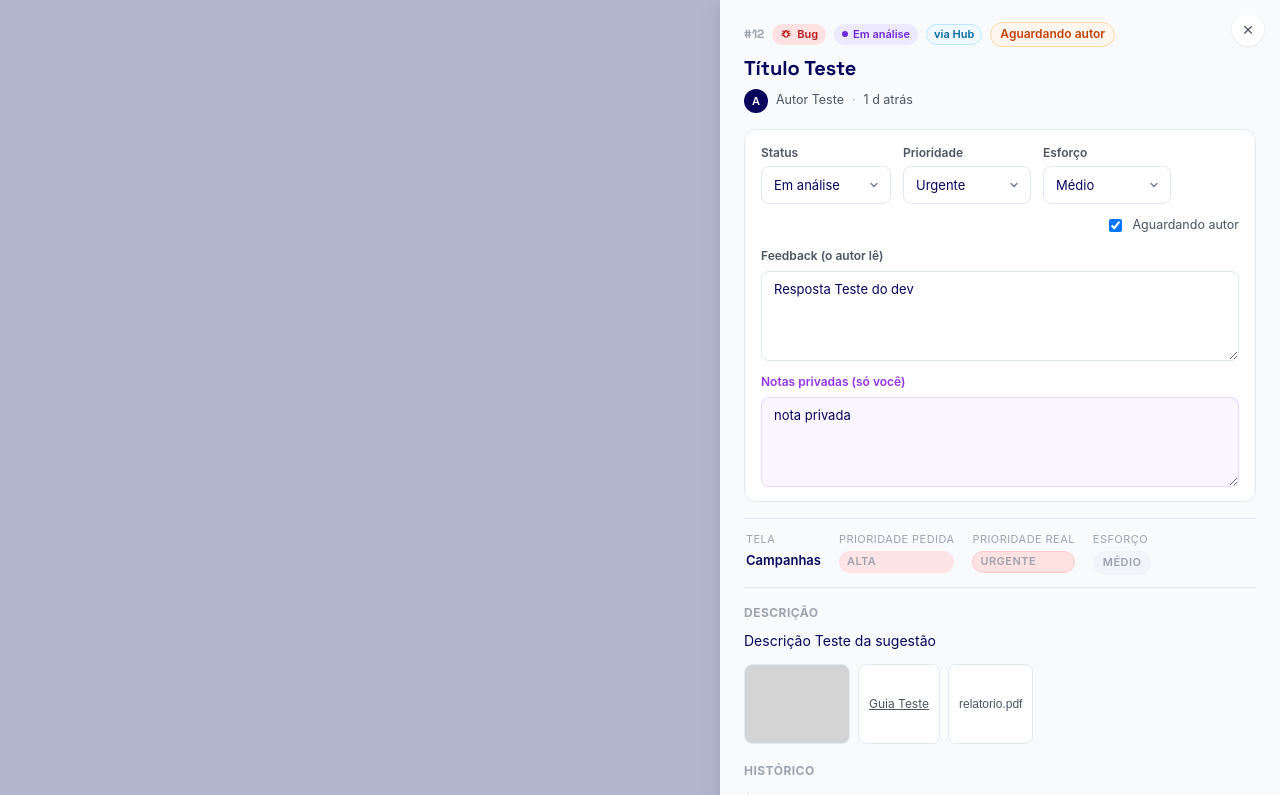
SuggestionDetail — gestão (dev) › feedback e notas: só ganham Salvar/Descartar quando editados; salvar aparta o texto e confirma
The image size is (1280, 795).
Expected: the heading "Título Teste" is shown, [744,55,856,81]
Expected: the button "Salvar" is not shown
Replace the text in the text box with placeholder "O que responder pro autor…" below "Feedback (o autor lê)" with "  Novo texto  ": [1000, 316] box [761,271,1239,361]
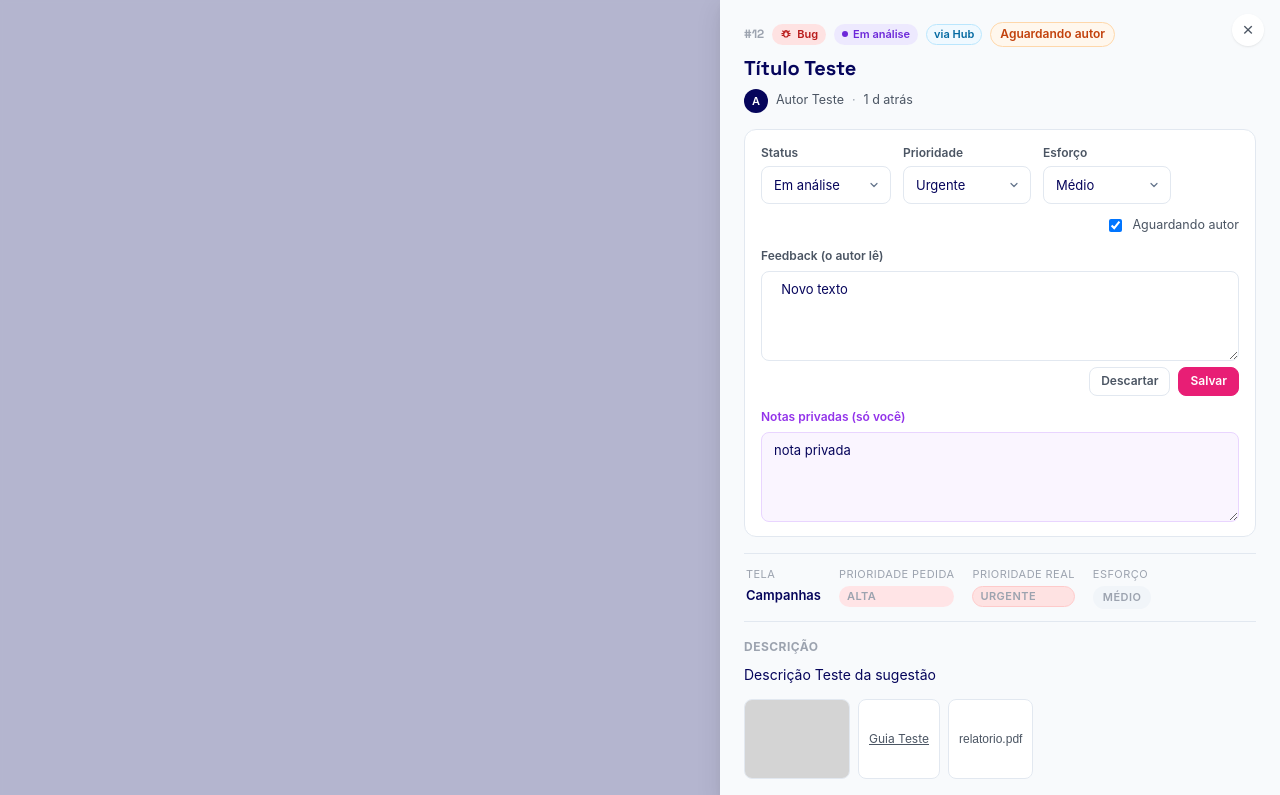
Click the button "Salvar": [1209, 381] box [1178,367,1239,396]
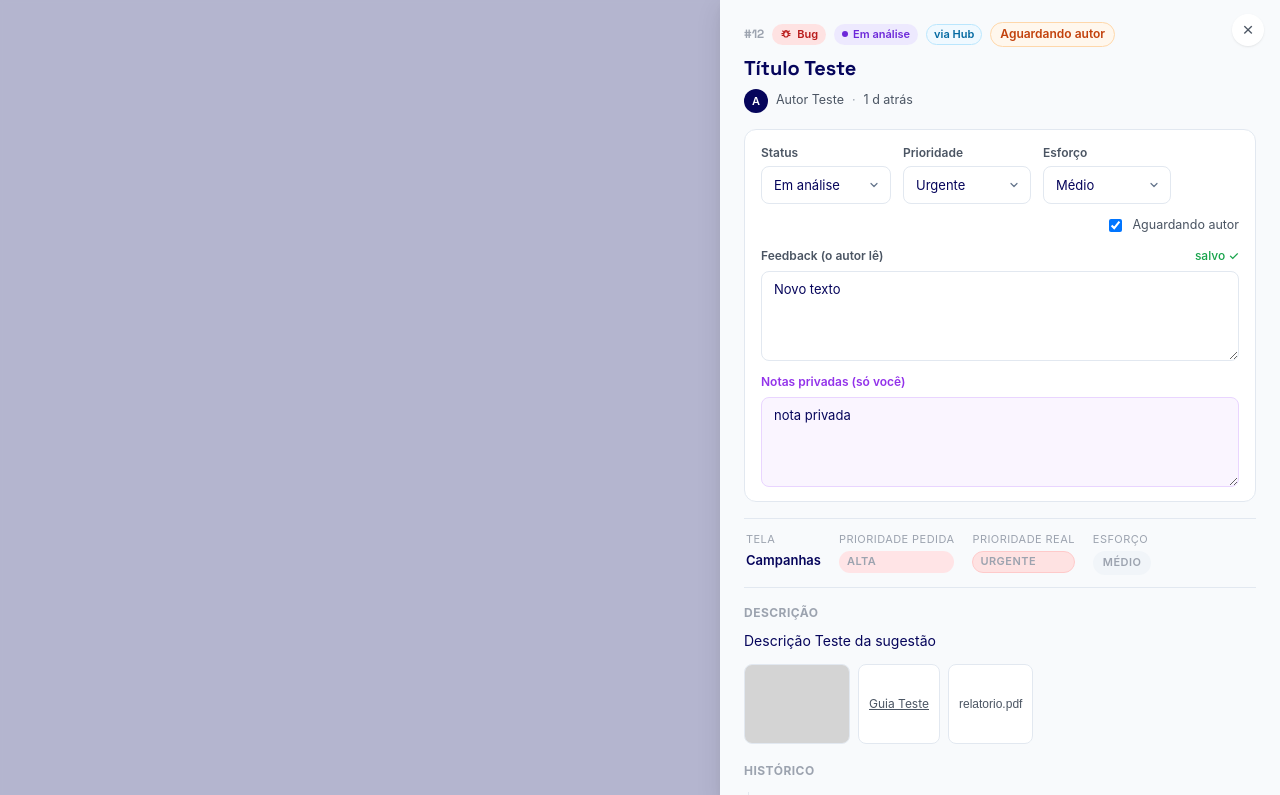
Result: the text "salvo ✓" is shown at [1195,247,1239,265]
Result: the button "Salvar" is gone
